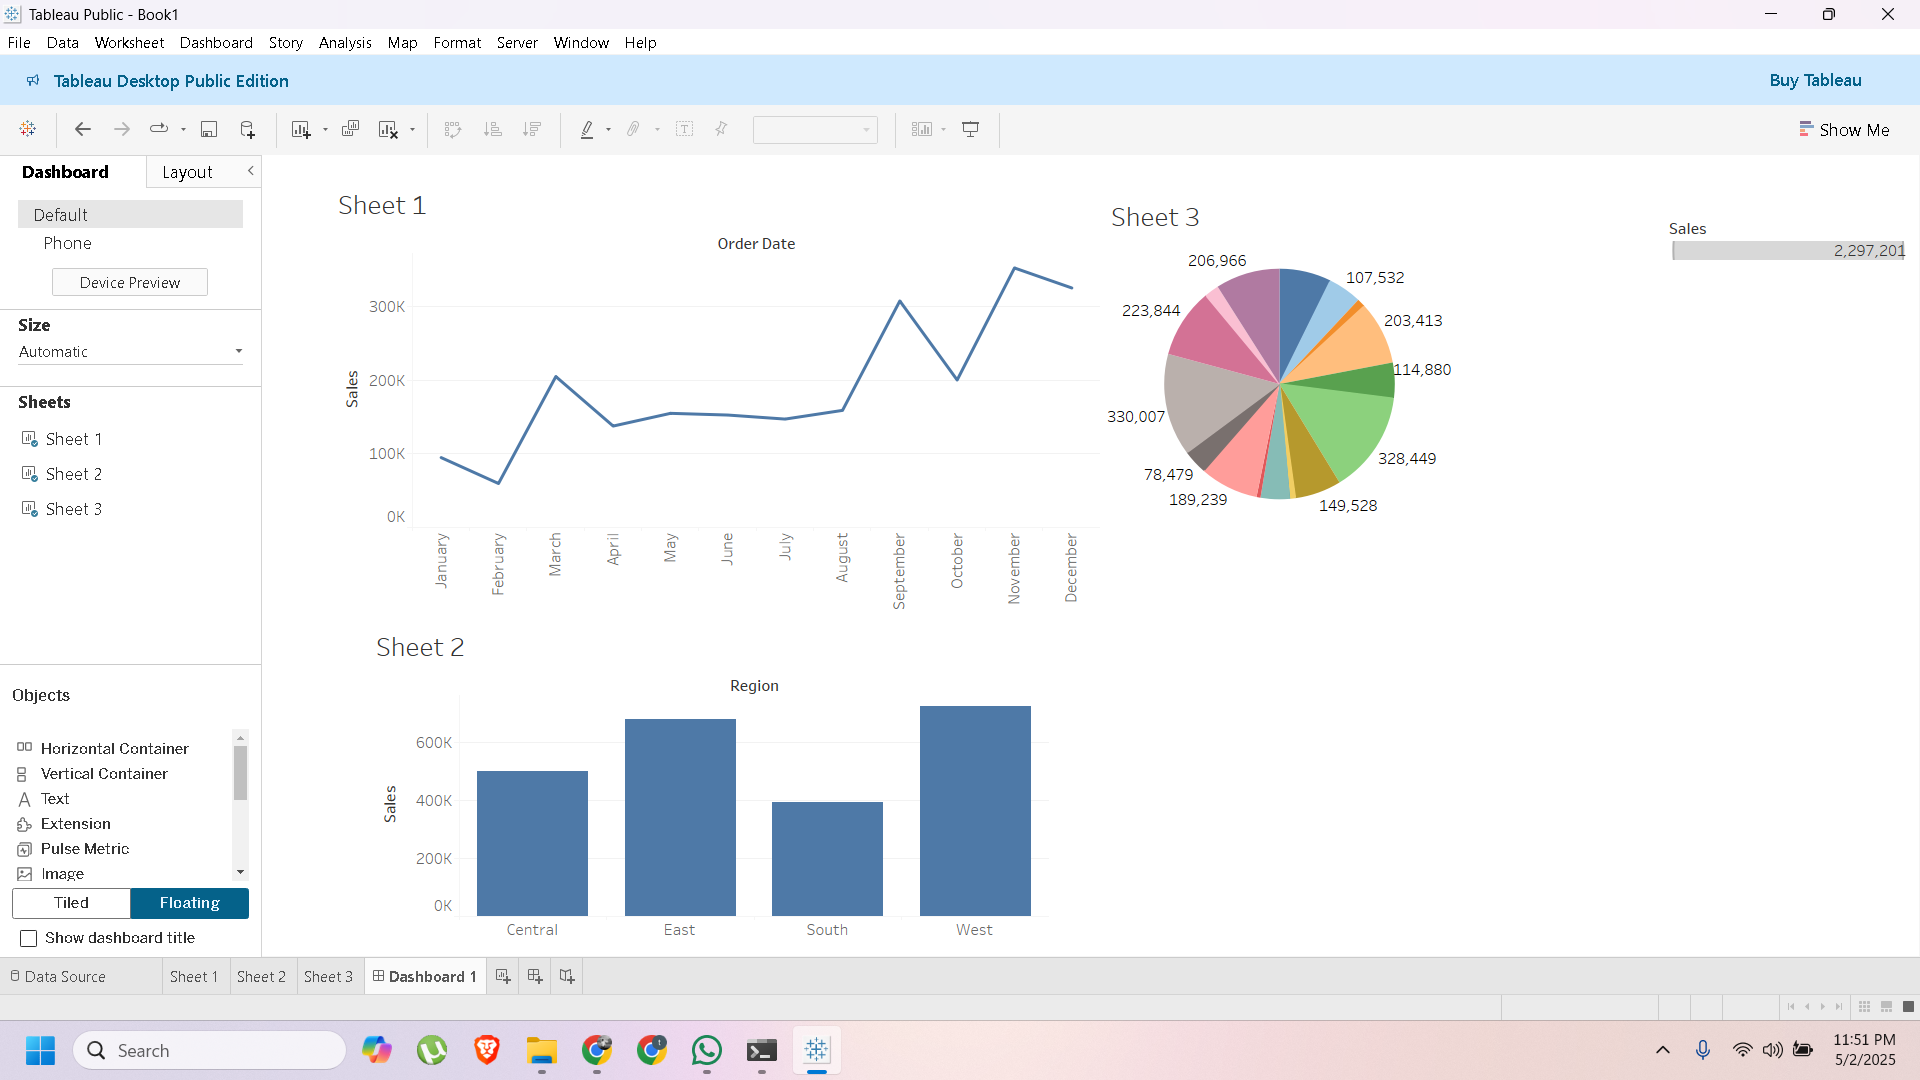

This screenshot's page, from the dashboard's own definition file:
{"tool":"tableau","page":{"name":"Dashboard 1","canvas":[1000,1000],"units":"permille","ordinal":0},"visuals":[{"type":"worksheet","title":"Sheet 1","mark":"Automatic","rows":["Sales"],"cols":["Order Date"],"box":[43.5,35,462.3,554.3]},{"type":"worksheet","title":"Sheet 3","mark":"Pie","box":[510,49.9,320.5,470.7]},{"type":"legend","title":"Sheet 3","param":"[federated.0s47rs51ssgf8y13znfwb18qs4qz].[sum:Sales:qk]","box":[849.1,78.7,145.4,53.7]},{"type":"worksheet","title":"Sheet 2","mark":"Automatic","rows":["Sales"],"cols":["Region"],"box":[66.4,586.8,408.6,394.5]}]}

Visuals, with their boxes on the dashboard's canvas, which has no fixed pixel size, in thousandths of its width and height (x1, y1, x2, y2). These are canvas units, not pixel positions in the 1920x1080 screenshot, which may show the page scaled, cropped or inside an application window:
"Sheet 1" worksheet: detection(44, 35, 506, 589)
"Sheet 3" worksheet (Pie marks): detection(510, 50, 830, 521)
"Sheet 3" legend: detection(849, 79, 994, 132)
"Sheet 2" worksheet: detection(66, 587, 475, 981)
